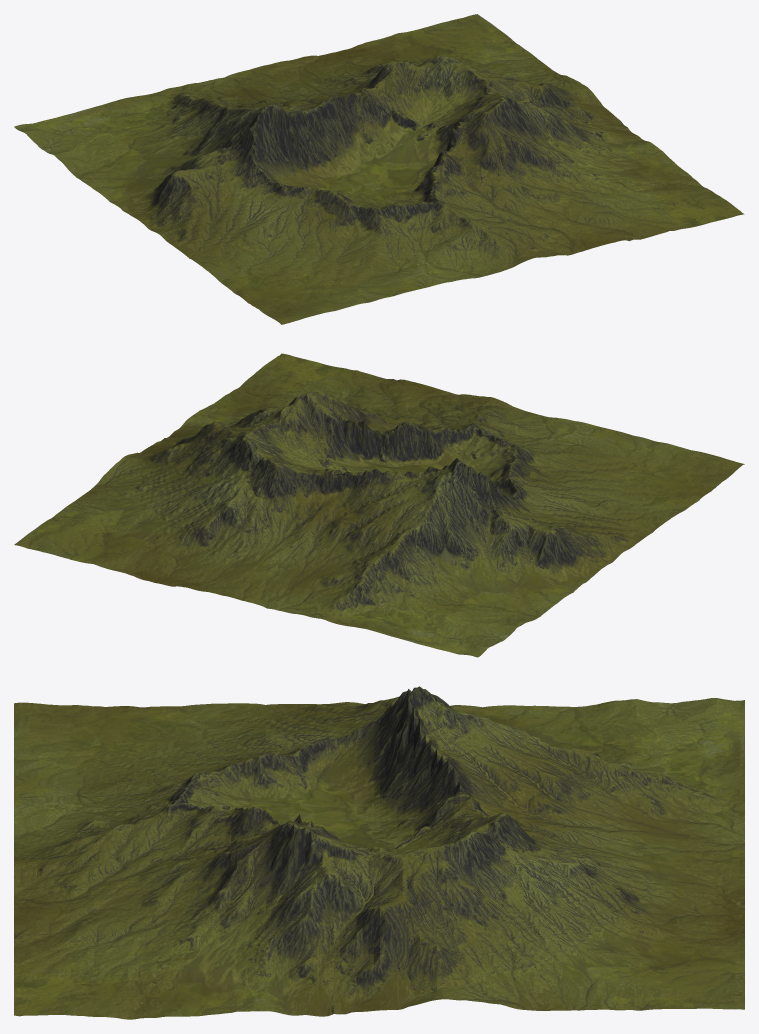
File: mountain.obj
The picture shows the model from 3 angles, top to bottom: view 1: azimuth 30°, elevation 25°; view 2: azimuth 150°, elevation 25°; view 3: azimuth 270°, elevation 25°; orthographic projection. The views are drawn at different scales.
Visible parts, largest first — view 1: Mesher_LOD2_reduced; view 2: Mesher_LOD2_reduced; view 3: Mesher_LOD2_reduced.
Part boxes in pixels (x1=…): Mesher_LOD2_reduced: x1=14, y1=14, x2=744, y2=324; Mesher_LOD2_reduced: x1=14, y1=353, x2=744, y2=657; Mesher_LOD2_reduced: x1=14, y1=686, x2=744, y2=1019.
Bounding box in the file's own units: 4995 × 872 × 4995.
